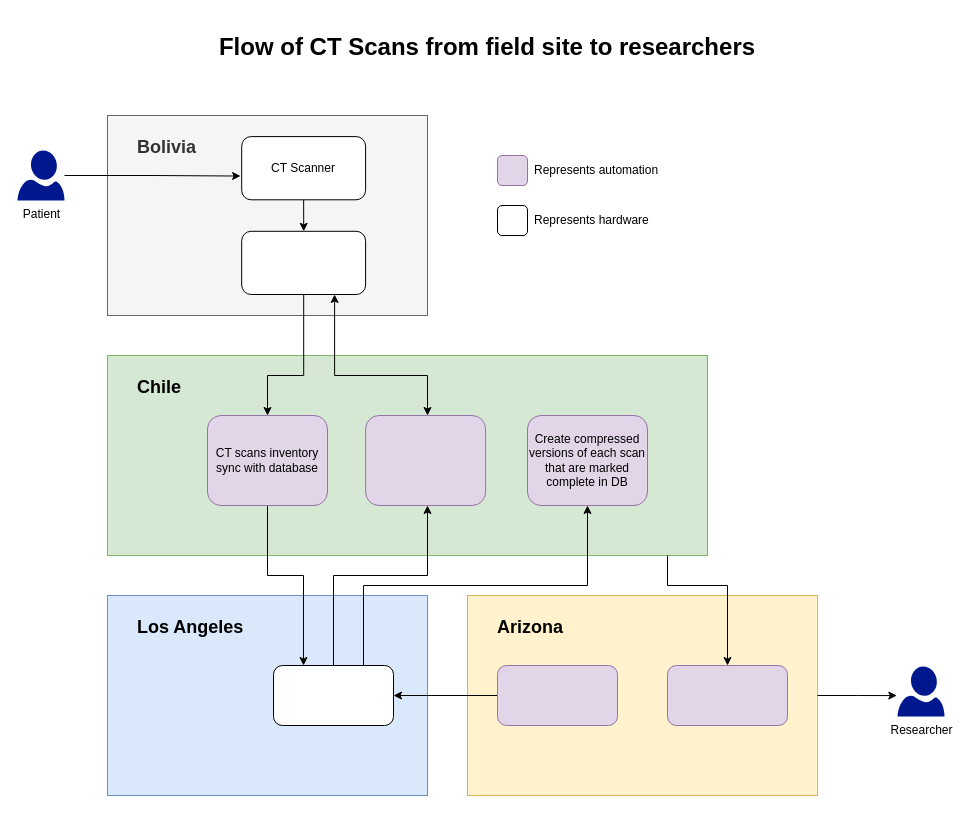
Some shapes in this 969 by 813 pixel diagram are drawn without their labels. Here are the shapes that lost their labels. From the top down, the centre of each, then its label:
At point (303, 262): "PACS".
At point (425, 460): "Compare list of scans between DB and local disk and download missing scans".
At point (333, 695): "Master Database".
At point (557, 695): "Create inventory of all scans from the database".
At point (727, 695): "Download all new zip files from Chile to ASU".
